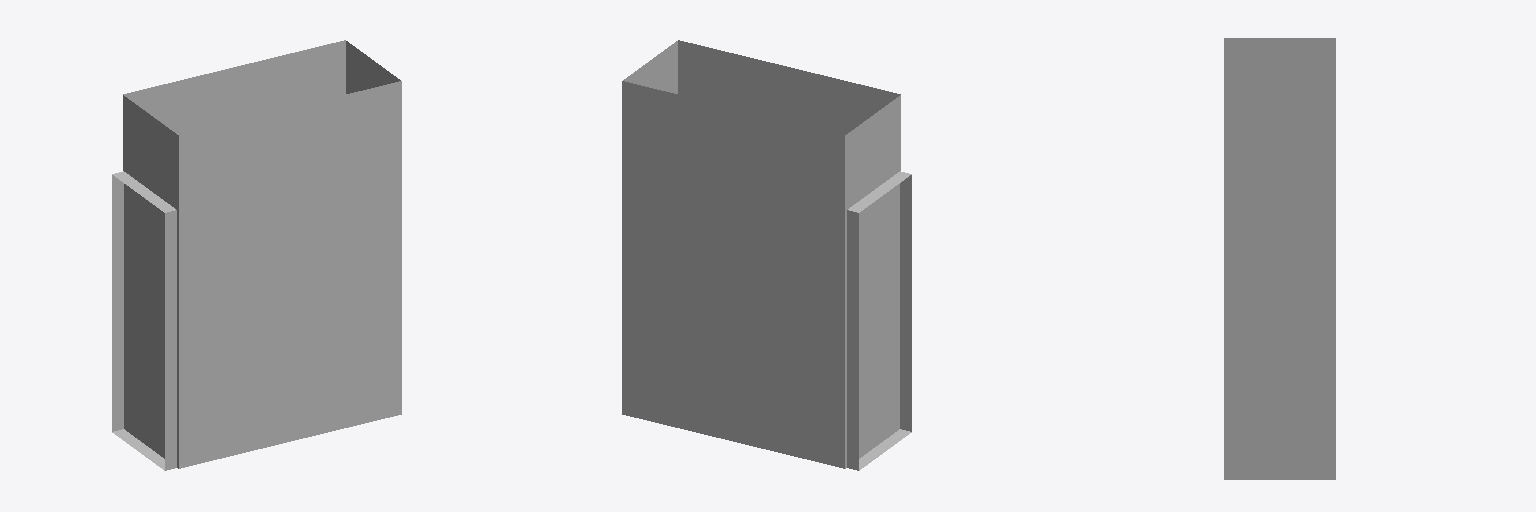
The picture shows the model from 3 angles: view 1: azimuth 30°, elevation 25°; view 2: azimuth 150°, elevation 25°; view 3: azimuth 270°, elevation 25°; orthographic projection.
Visible parts, largest first — view 1: WC1; view 2: WC1; view 3: WC1.
Boxes of the visible parts, <box> form: WC1: <box>112,40,401,470</box>; WC1: <box>622,40,911,470</box>; WC1: <box>1224,38,1335,479</box>.
Bounding box in the file's own units: 0.0243 × 0.0329 × 0.01.